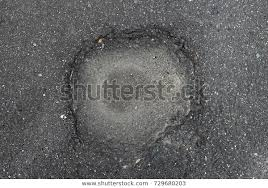pothole: (66, 25, 210, 152)
